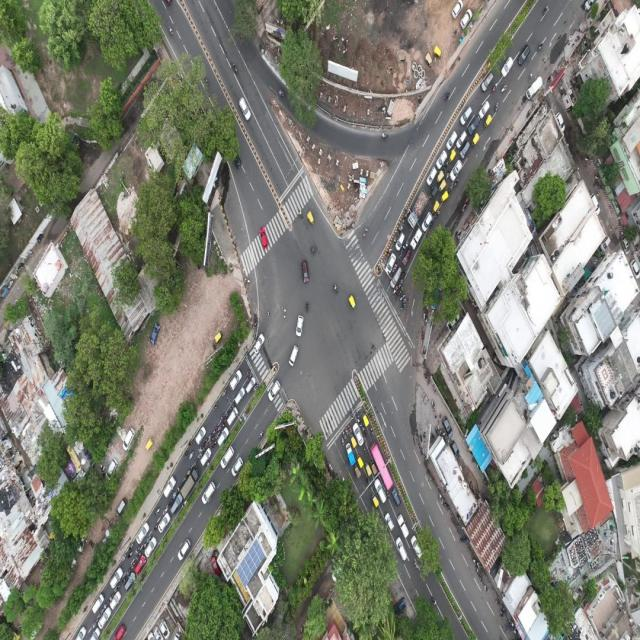3W: (214, 329, 224, 344), (424, 52, 433, 67), (471, 132, 480, 147), (439, 190, 449, 203), (483, 114, 492, 128), (145, 438, 155, 450), (349, 294, 356, 310), (371, 494, 379, 508), (435, 170, 444, 182), (431, 200, 440, 212), (431, 186, 439, 199), (434, 46, 442, 58), (354, 466, 361, 479), (449, 150, 456, 163), (363, 414, 369, 426), (358, 454, 363, 468)
Bus: (369, 440, 393, 490)
Cars: (178, 535, 192, 560), (122, 426, 136, 450), (238, 96, 251, 121), (458, 9, 473, 30), (163, 476, 177, 498), (136, 522, 150, 544), (396, 537, 408, 562), (221, 447, 234, 469), (202, 482, 215, 504), (110, 566, 123, 588), (449, 160, 462, 182), (500, 56, 514, 76), (518, 44, 530, 67), (384, 252, 396, 275), (229, 370, 242, 391), (106, 460, 120, 479), (170, 493, 182, 515), (268, 381, 281, 401), (158, 512, 171, 532), (144, 536, 157, 556), (393, 597, 408, 614), (254, 330, 265, 353), (391, 267, 402, 290), (150, 321, 160, 346), (591, 191, 601, 216), (481, 72, 494, 91), (411, 536, 422, 558), (217, 426, 229, 446), (124, 572, 136, 592), (232, 456, 243, 477), (555, 109, 565, 132), (460, 106, 472, 125), (446, 131, 458, 150), (459, 141, 471, 160), (260, 226, 269, 251), (295, 312, 304, 337), (117, 497, 127, 519), (442, 415, 452, 437), (134, 554, 146, 572), (110, 591, 122, 609), (450, 0, 462, 18), (195, 426, 206, 445), (436, 150, 447, 169), (289, 344, 298, 367), (631, 257, 640, 280), (201, 447, 211, 467), (160, 618, 170, 638), (246, 375, 257, 393), (384, 513, 395, 531), (451, 437, 460, 459), (600, 236, 612, 252), (401, 250, 412, 266), (73, 627, 86, 640), (235, 387, 246, 402), (392, 487, 400, 507), (622, 235, 630, 255), (89, 627, 101, 640), (114, 626, 125, 640), (303, 259, 309, 284), (154, 626, 164, 640)
LCV: (396, 514, 408, 538), (411, 227, 422, 250), (92, 594, 104, 614), (346, 444, 356, 466), (426, 166, 437, 185), (228, 408, 238, 426)
M2W: (166, 22, 174, 38), (203, 76, 210, 88), (232, 62, 239, 74), (297, 209, 304, 221), (128, 541, 136, 551), (381, 132, 389, 142), (385, 488, 391, 501), (447, 181, 453, 193), (463, 193, 469, 205), (92, 618, 99, 628), (543, 6, 550, 16), (537, 41, 544, 51), (258, 430, 264, 441), (431, 597, 437, 607), (428, 216, 434, 226), (310, 246, 317, 254), (183, 450, 190, 458), (342, 429, 347, 440), (279, 88, 285, 97), (444, 171, 450, 180), (401, 214, 407, 223), (401, 270, 407, 279), (432, 399, 436, 412), (211, 341, 216, 351), (122, 552, 127, 562), (484, 584, 489, 594), (457, 230, 462, 240), (220, 419, 227, 426), (130, 560, 136, 568), (415, 560, 419, 572), (444, 92, 450, 100), (424, 310, 428, 322), (131, 559, 136, 568), (222, 388, 227, 397), (230, 401, 235, 410), (362, 427, 367, 436), (357, 417, 362, 426), (395, 290, 400, 299), (400, 302, 405, 311), (439, 493, 443, 504), (404, 240, 408, 251), (334, 280, 337, 294), (128, 550, 132, 560), (135, 546, 140, 554), (154, 520, 158, 530), (212, 440, 217, 448), (213, 402, 218, 410), (364, 446, 368, 456), (370, 426, 374, 436), (397, 254, 402, 262), (495, 100, 498, 113), (244, 278, 250, 284), (194, 456, 198, 465), (348, 424, 352, 433), (322, 431, 326, 440), (501, 85, 507, 91), (392, 236, 396, 245), (397, 226, 401, 235), (207, 433, 214, 438), (461, 204, 466, 211), (402, 296, 407, 303), (246, 369, 250, 377), (306, 302, 309, 312), (190, 450, 193, 460), (356, 408, 359, 418), (351, 412, 354, 422), (189, 440, 193, 447), (364, 437, 368, 444), (400, 287, 404, 294), (199, 444, 203, 450), (220, 414, 224, 420), (245, 353, 249, 359), (214, 426, 217, 433)
MAV: (407, 189, 429, 226), (307, 212, 315, 226)
Truck: (180, 466, 200, 497), (526, 76, 543, 100)
